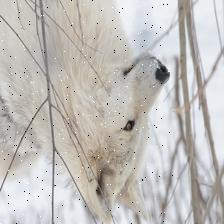WOLF: (0, 0, 173, 224)
